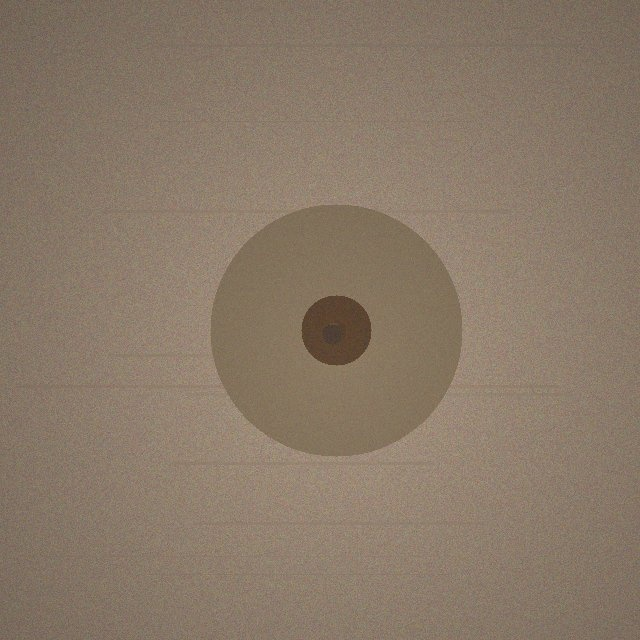cold_weld: (210, 204, 462, 456)
